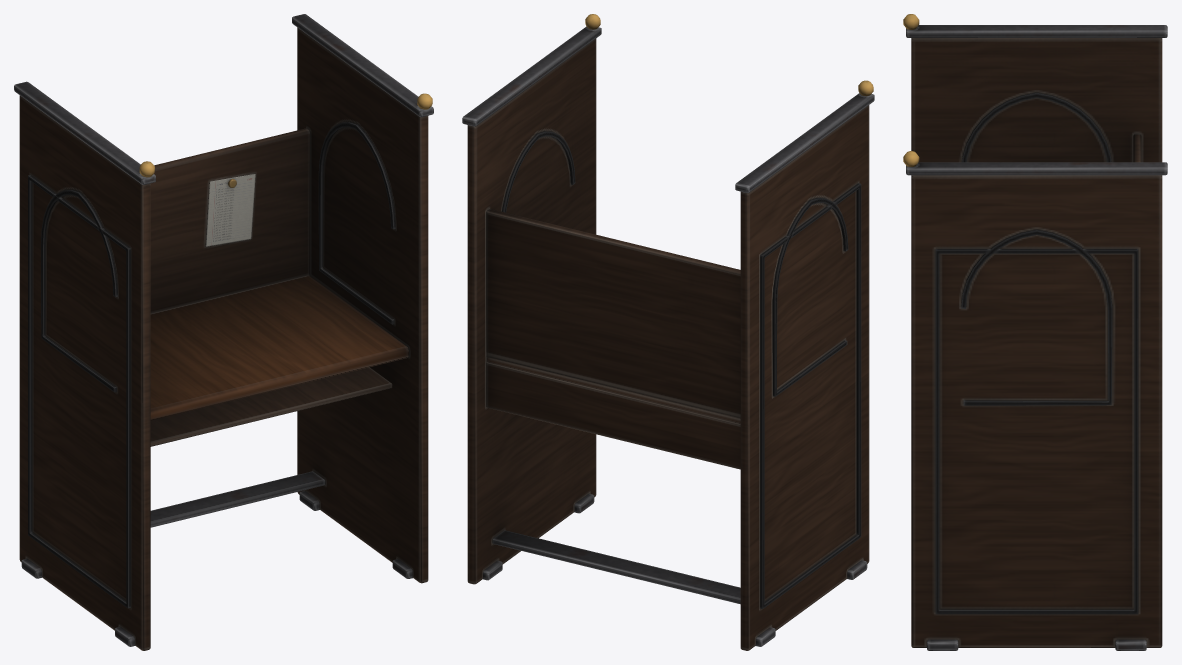
File: FacingWallDesk.fbx
The picture shows the model from 3 angles, left to right: view 1: azimuth 30°, elevation 25°; view 2: azimuth 150°, elevation 25°; view 3: azimuth 270°, elevation 25°; orthographic projection. The views are drawn at different scales.
Visible parts, largest first — view 1: FacingWallDesk; view 2: FacingWallDesk; view 3: FacingWallDesk.
Part boxes in pixels (box(x1,y1,x2,y2)): FacingWallDesk: box(14, 14, 433, 650); FacingWallDesk: box(462, 14, 874, 650); FacingWallDesk: box(903, 14, 1167, 650).
Size of the model in its own units: 332 by 522 by 253.
